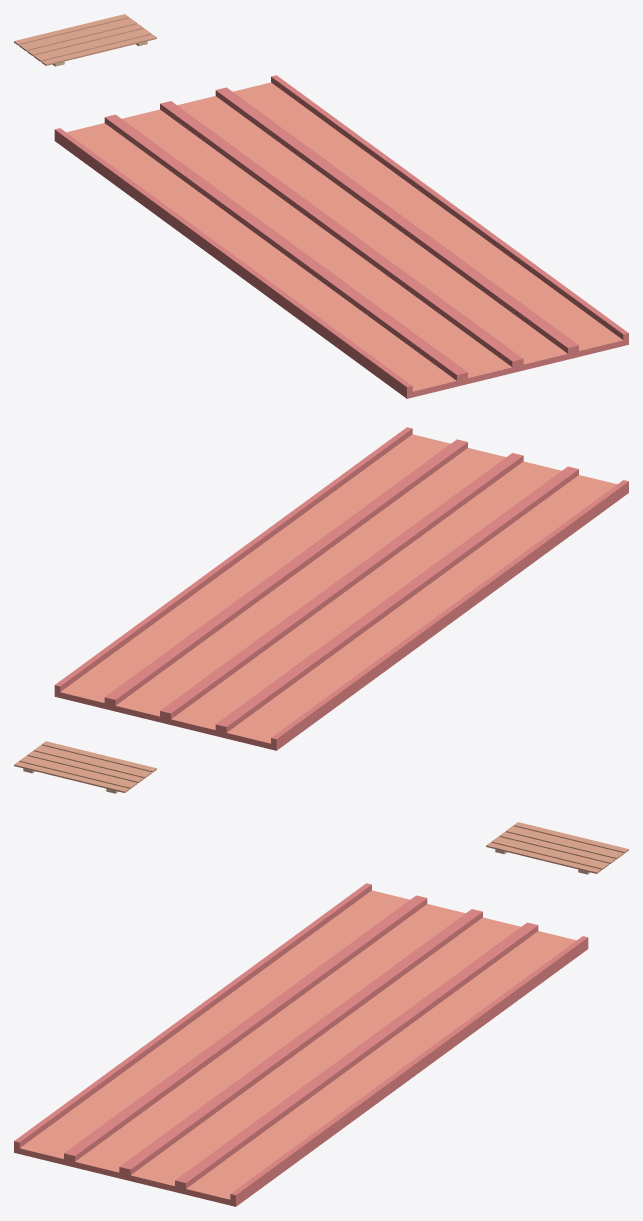
Rendered from Platform.fbx.
The picture shows the model from 3 angles, top to bottom: view 1: azimuth 30°, elevation 25°; view 2: azimuth 150°, elevation 25°; view 3: azimuth 330°, elevation 25°; orthographic projection.
Parts seen in each view (by area): view 1: roof_flatStraight.003, roof_flatStraight, roof_flatStraight.002, roof_flatStraight.001, platform_wood; view 2: roof_flatStraight.003, roof_flatStraight.002, roof_flatStraight.001, roof_flatStraight, platform_wood; view 3: roof_flatStraight.001, roof_flatStraight, roof_flatStraight.002, roof_flatStraight.003, platform_wood.
Boxes of the visible parts, box(x1,y1,x2,y2) form: roof_flatStraight.003: box(54, 116, 462, 398); roof_flatStraight: box(166, 89, 573, 371); roof_flatStraight.002: box(110, 102, 517, 385); roof_flatStraight.001: box(221, 75, 628, 357); platform_wood: box(14, 14, 156, 66); roof_flatStraight.003: box(221, 468, 628, 750); roof_flatStraight.002: box(165, 454, 572, 737); roof_flatStraight.001: box(54, 427, 461, 709); roof_flatStraight: box(110, 440, 517, 723); platform_wood: box(14, 741, 156, 793); roof_flatStraight.001: box(180, 924, 588, 1206); roof_flatStraight: box(125, 910, 532, 1193); roof_flatStraight.002: box(69, 897, 476, 1179); roof_flatStraight.003: box(14, 883, 421, 1165); platform_wood: box(486, 822, 628, 874).
Bounding box in the file's own units: 4 × 0.275 × 14.
